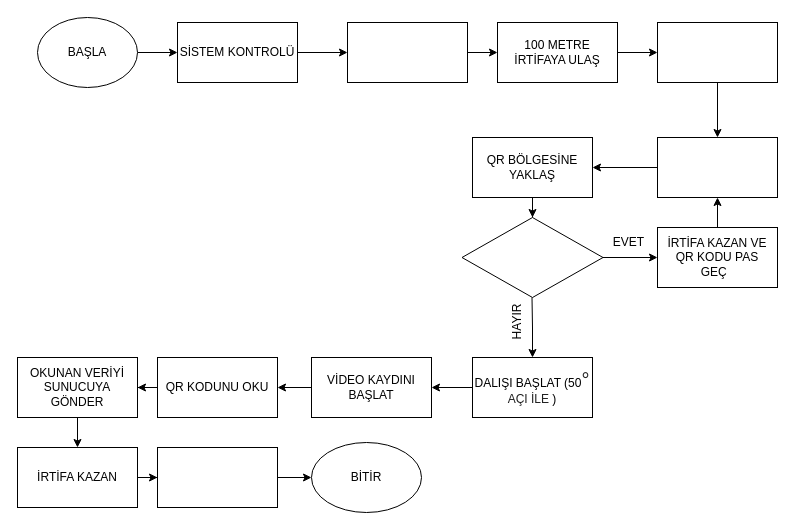
This 795x530 diagram has some shape labels left out. The shapes that lost their labels are listed below. From the top down, each one's centre as x and y in pixels, then its label:
the point at 407,52: OTONOM KALKIŞ YAP
the point at 717,52: SUNUCUDAN GPS VERİLERİNİ AL
the point at 717,167: GPS İLE HEDEFE YÖNEL
the point at 532,257: İRTİFA 25 METREDEN DÜŞÜK MÜ?
the point at 217,477: VİDEO KAYDINI BİTİR
